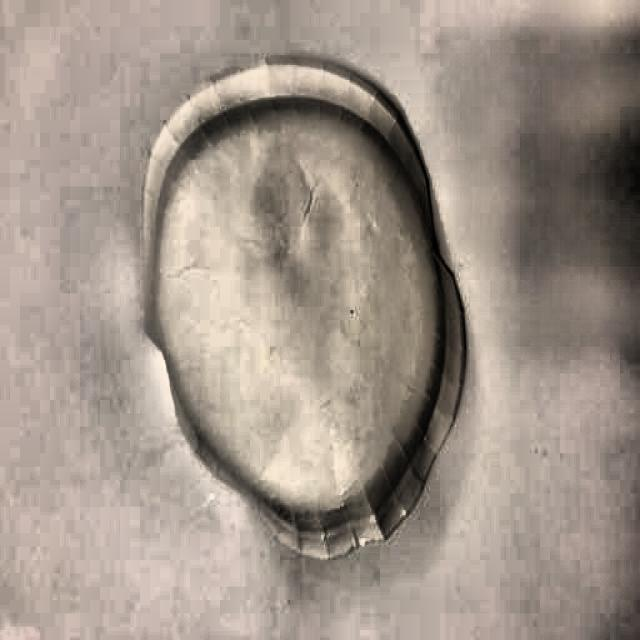paper: (140, 56, 472, 562)
